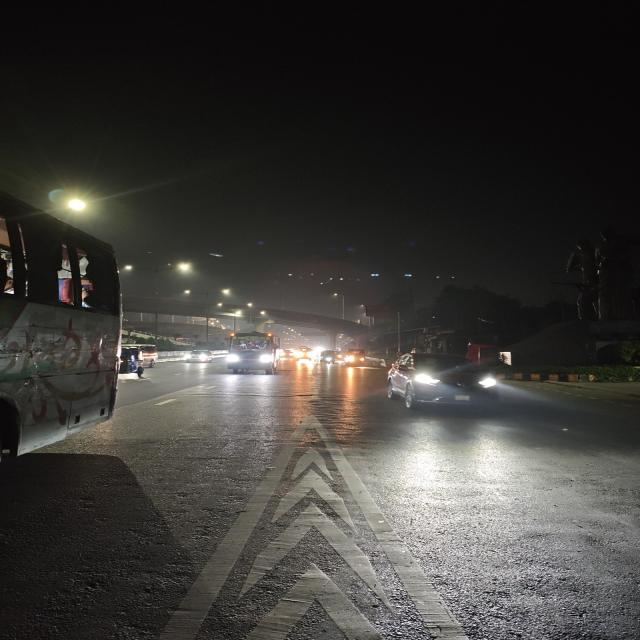bus: (1, 190, 122, 478), (216, 324, 281, 378)
car: (384, 348, 504, 418), (182, 347, 214, 367)
cng: (319, 350, 336, 367)
truck: (344, 346, 368, 368)
